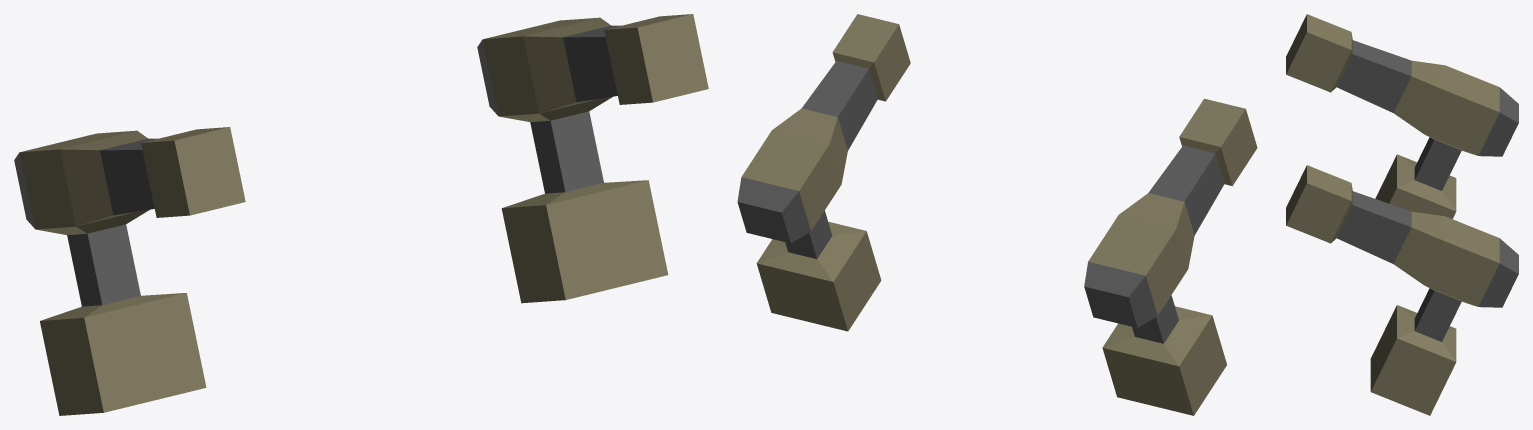
Rendered from arm1-2.obj.
The picture shows the model from 3 angles, left to right: view 1: azimuth 30°, elevation 25°; view 2: azimuth 150°, elevation 25°; view 3: azimuth 270°, elevation 25°; orthographic projection. The views are drawn at different scales.
Parts seen in each view (by area): view 1: MechArm1; view 2: MechArm1; view 3: MechArm1.
Part boxes in pixels (x1,y1,x2,y2): MechArm1: (14,14,708,415); MechArm1: (737,14,1257,415); MechArm1: (1286,14,1518,415).
Size of the model in its own units: 7.82 by 4.47 by 4.18.
Materials: 1 (1 with a texture image).
